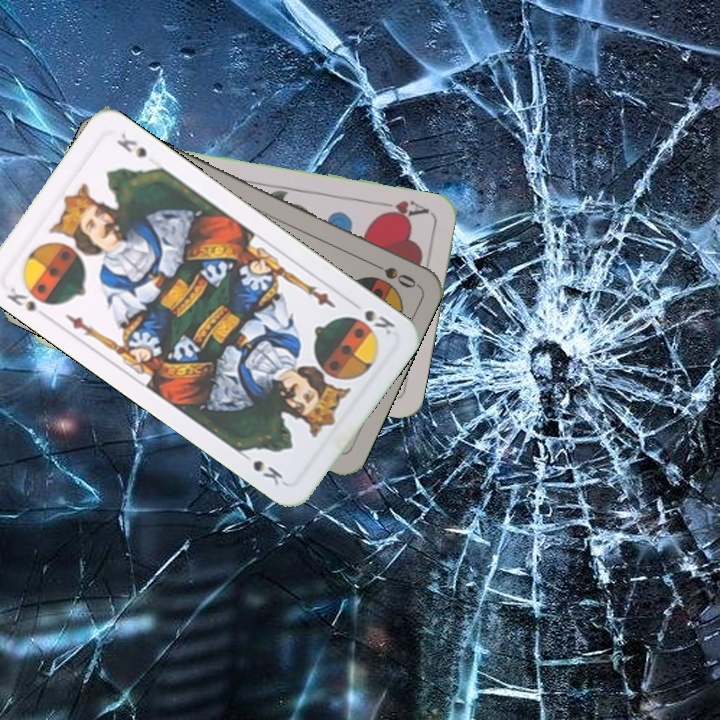HA: (375, 196, 432, 222)
SK: (348, 305, 398, 338), (2, 283, 40, 315)
SO: (364, 256, 419, 291)
